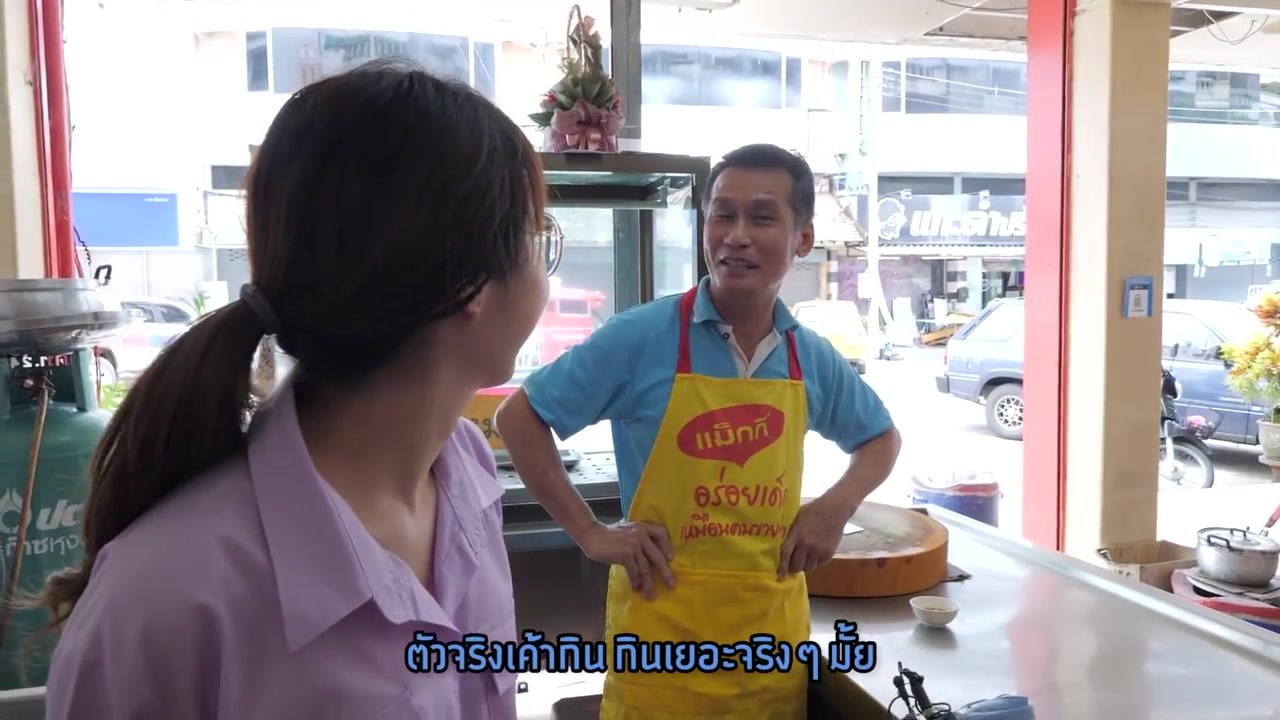text-label: (397, 616, 885, 685)
